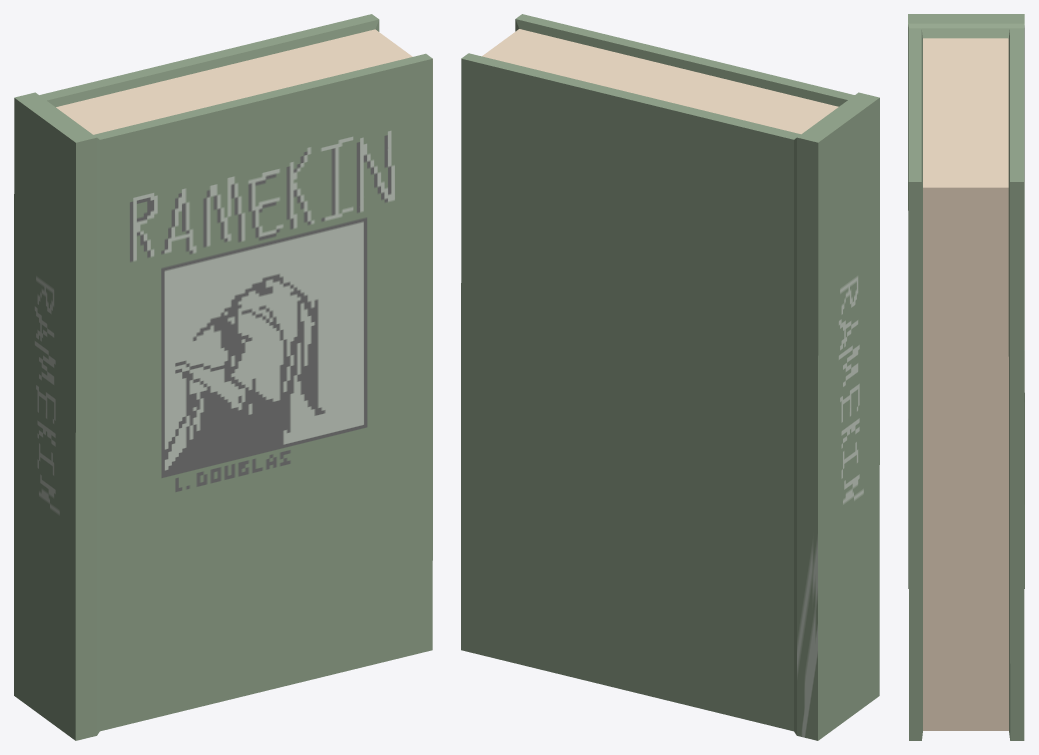
Rendered from rakmekin,fbx.fbx.
3 views of the same model, side by side, from view 1: azimuth 30°, elevation 25°; view 2: azimuth 150°, elevation 25°; view 3: azimuth 270°, elevation 25° (orthographic). The views are drawn at different scales.
Visible parts, largest first — view 1: Cube.114; view 2: Cube.114; view 3: Cube.114.
Part boxes in pixels (left/top/right/bottom): Cube.114: left=14, top=14, right=432, bottom=740; Cube.114: left=461, top=14, right=879, bottom=740; Cube.114: left=908, top=14, right=1024, bottom=740.
Size of the model in its own units: 22.87 by 36.59 by 6.85.
